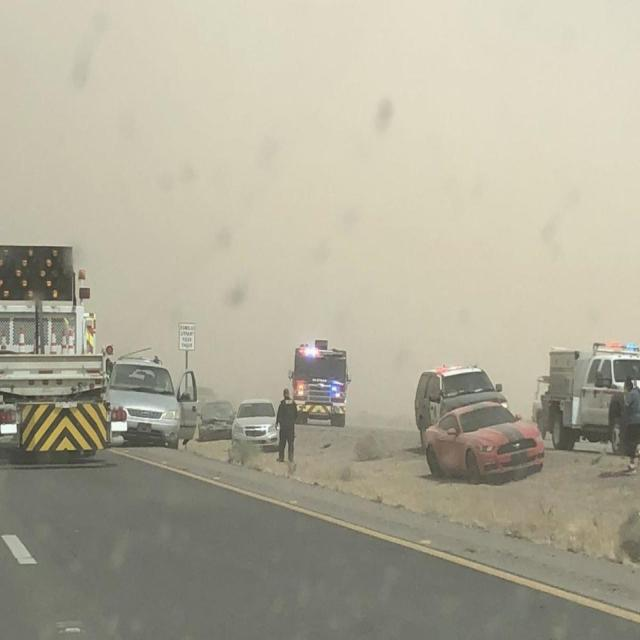Car: (418, 401, 546, 487), (113, 342, 202, 452), (233, 384, 282, 459), (198, 394, 234, 442)
Truck: (1, 229, 118, 467), (534, 311, 640, 451), (408, 354, 510, 435), (287, 316, 353, 430)
